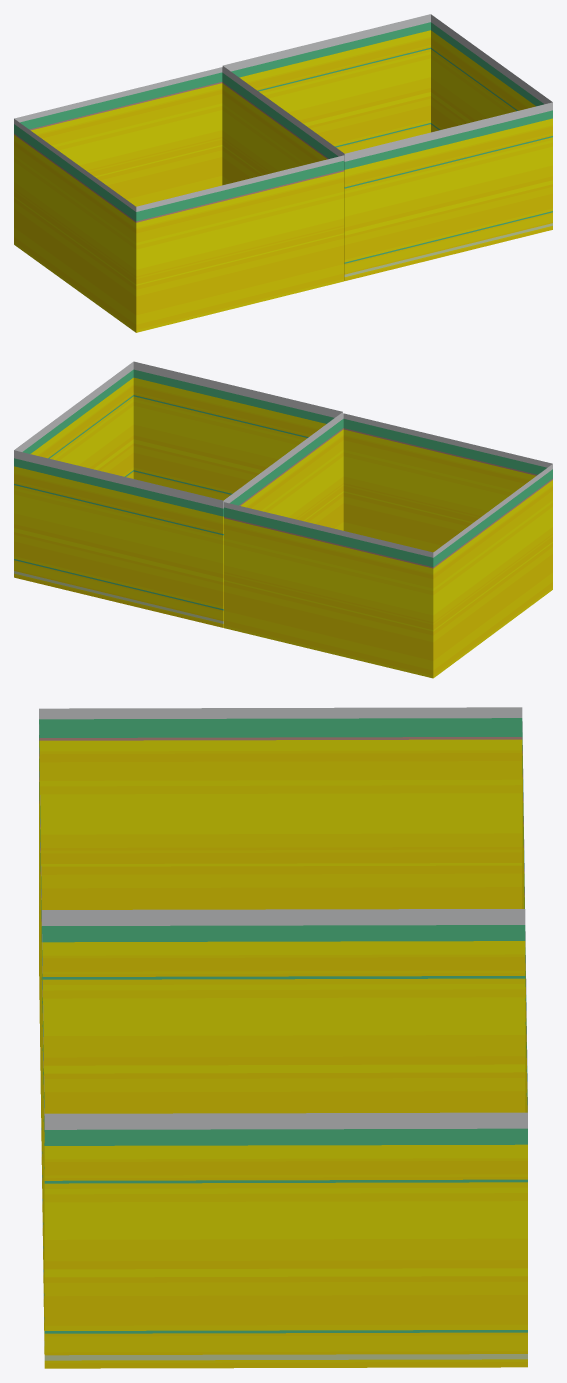
3 renders of one model, top to bottom at view 1: azimuth 30°, elevation 25°; view 2: azimuth 150°, elevation 25°; view 3: azimuth 270°, elevation 25°, orthographic. The views are drawn at different scales.
Parts seen in each view (by area): view 1: mesh; view 2: mesh; view 3: mesh.
Part boxes in pixels (x1,y1,x2,y2): mesh: (14,14,552,332); mesh: (14,361,552,678); mesh: (39,707,527,1368).
Size of what is drawn, in the model's own units: 327 by 95 by 165.
